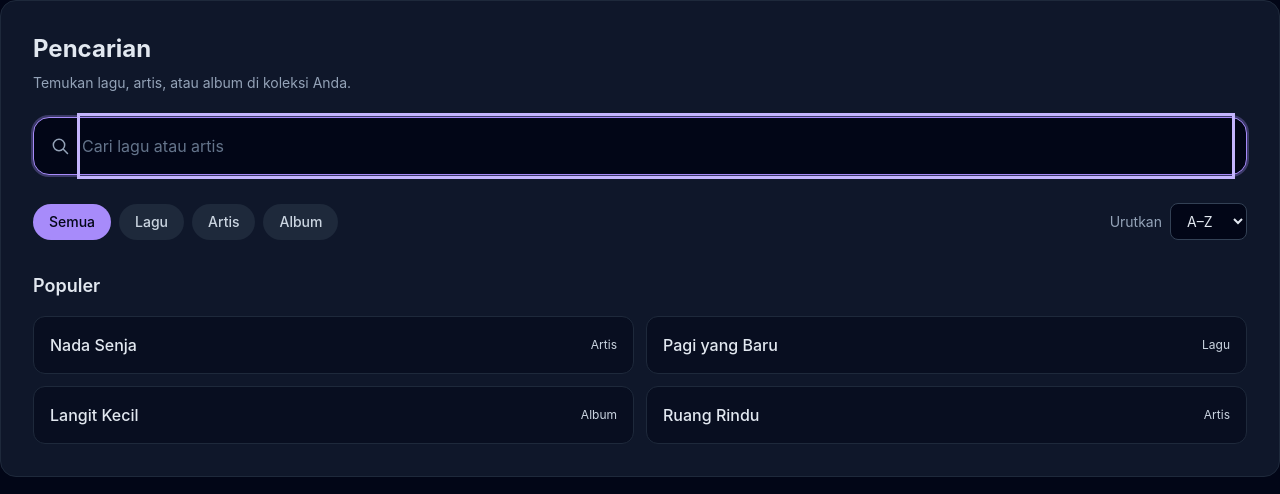
Test: Search › supports autocomplete keyboard navigation, selection, Escape, and clearing the query
Type "Luna" into the dropdown labelled "Cari lagu atau artis" at (656, 146), box [82, 118, 1230, 174]
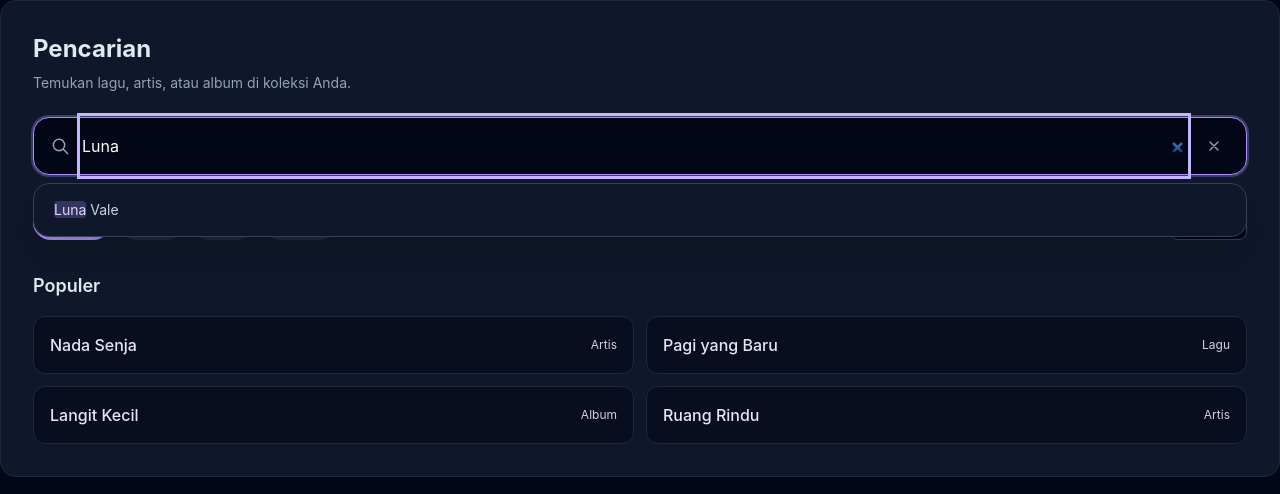
Expected: the list named "Saran pencarian" is shown, [33, 183, 1247, 237]
Press ArrowDown in the dropdown named "Cari lagu atau artis", box [82, 118, 1186, 174]
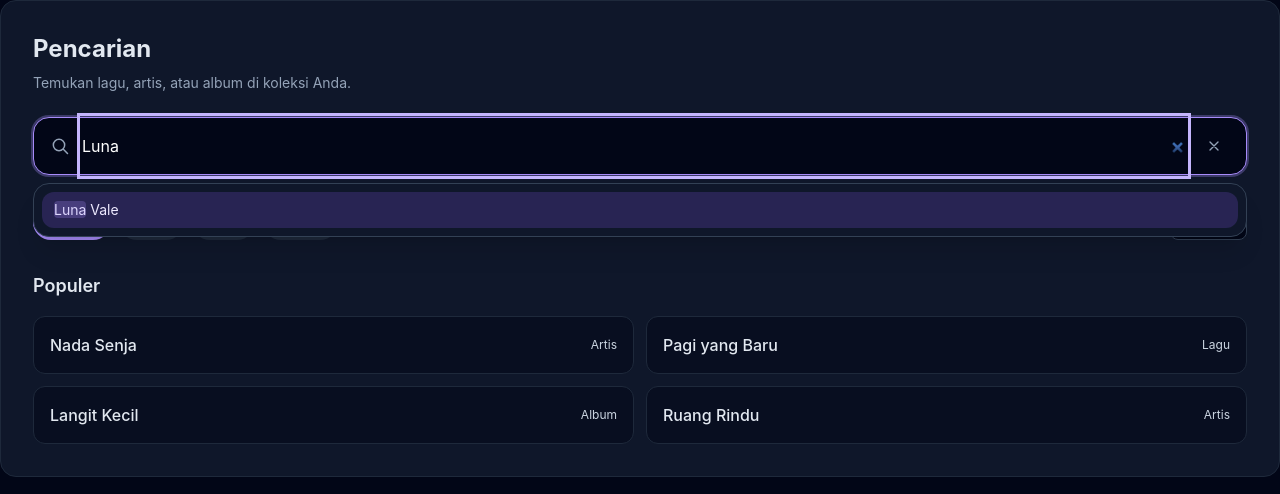
Press ArrowUp in the dropdown named "Cari lagu atau artis", box [82, 118, 1186, 174]
Expected: the dropdown named "Cari lagu atau artis" has attribute aria-activedescendant="search-suggestion-0"
Press Escape in the dropdown named "Cari lagu atau artis", box [82, 118, 1186, 174]
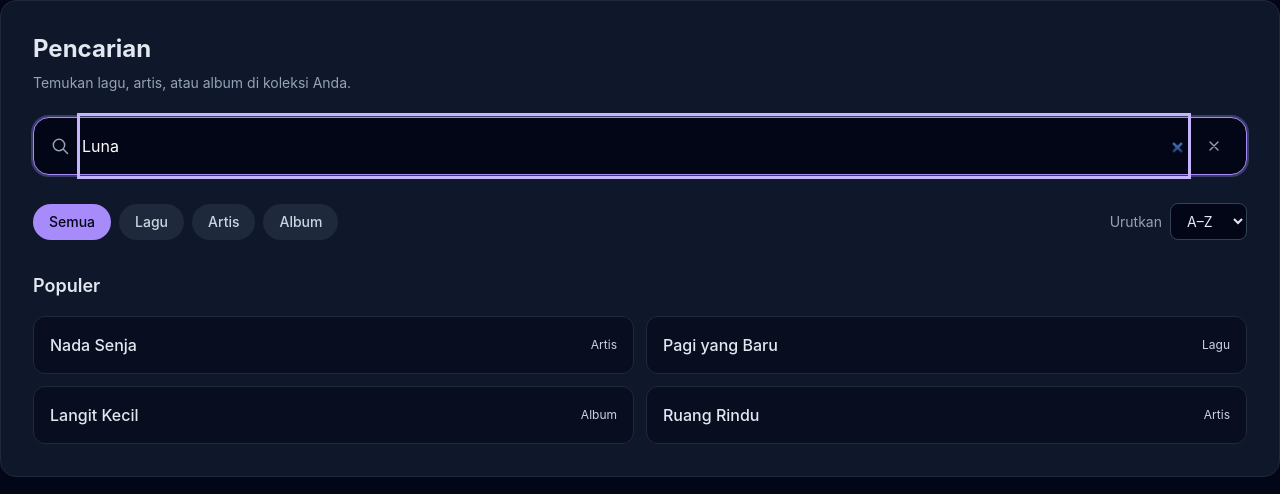
Expected: the list "Luna Vale" is gone
Replace the text in the dropdown named "Cari lagu atau artis" with "Starlight" at (634, 146), box [82, 118, 1186, 174]
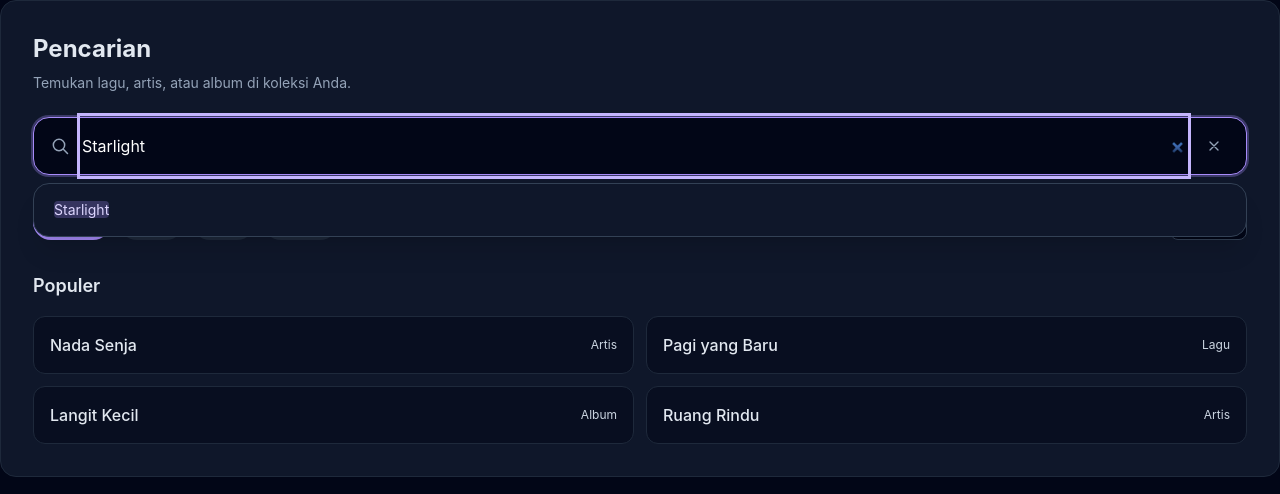
Click the option "Starlight" at (82, 210), box [42, 192, 1238, 228]
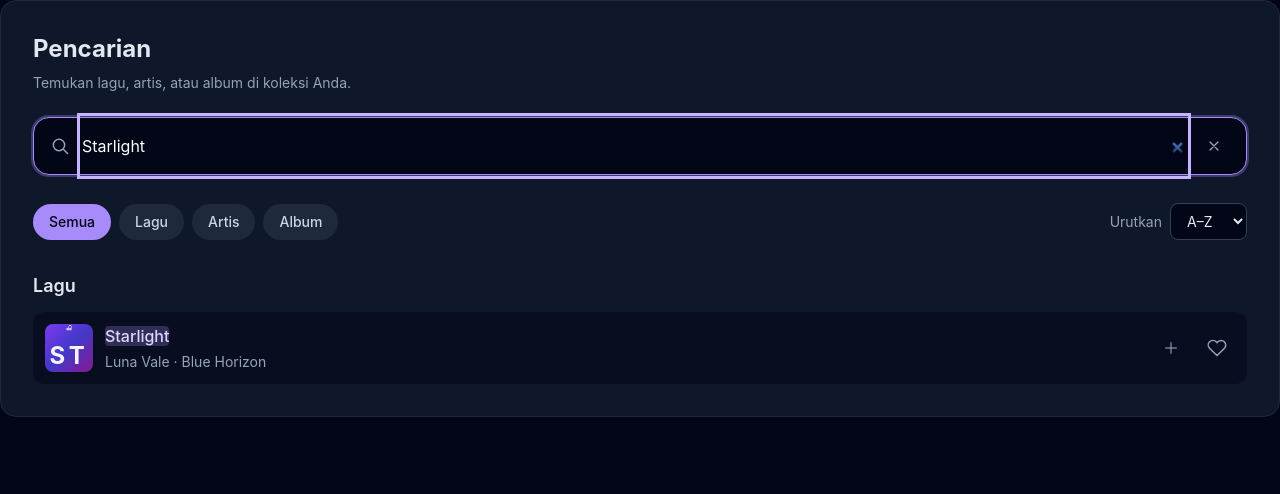
Expected: the element "Lagu" is shown, [33, 272, 1247, 384]
Click the button named "Hapus teks pencarian" at (1214, 146), box [1198, 130, 1230, 162]
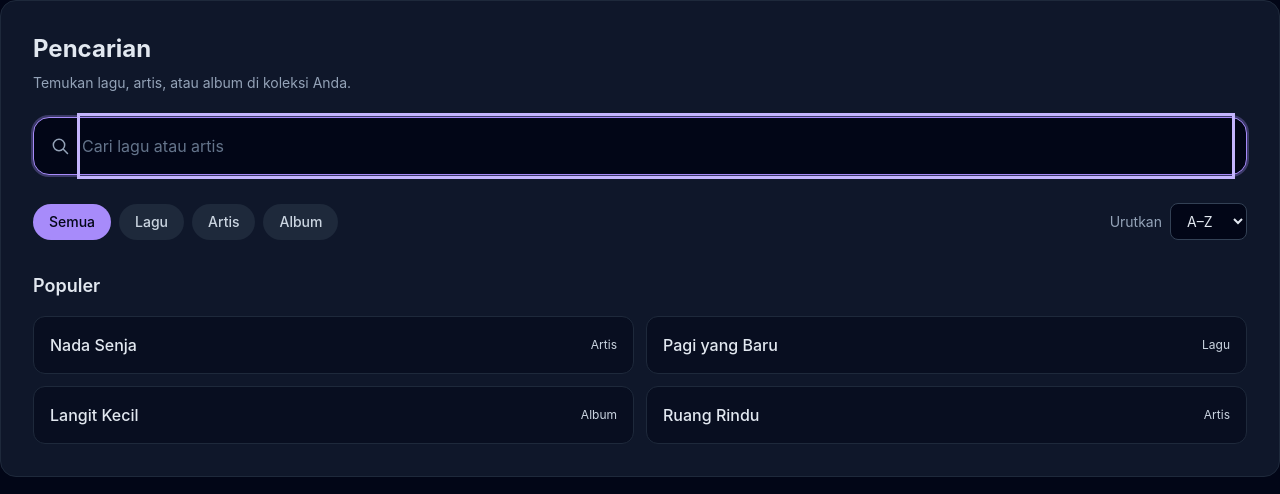
Expected: the dropdown labelled "Cari lagu atau artis" is empty, [82, 118, 1230, 174]
Expected: the heading "Populer" is shown, [33, 275, 100, 296]
